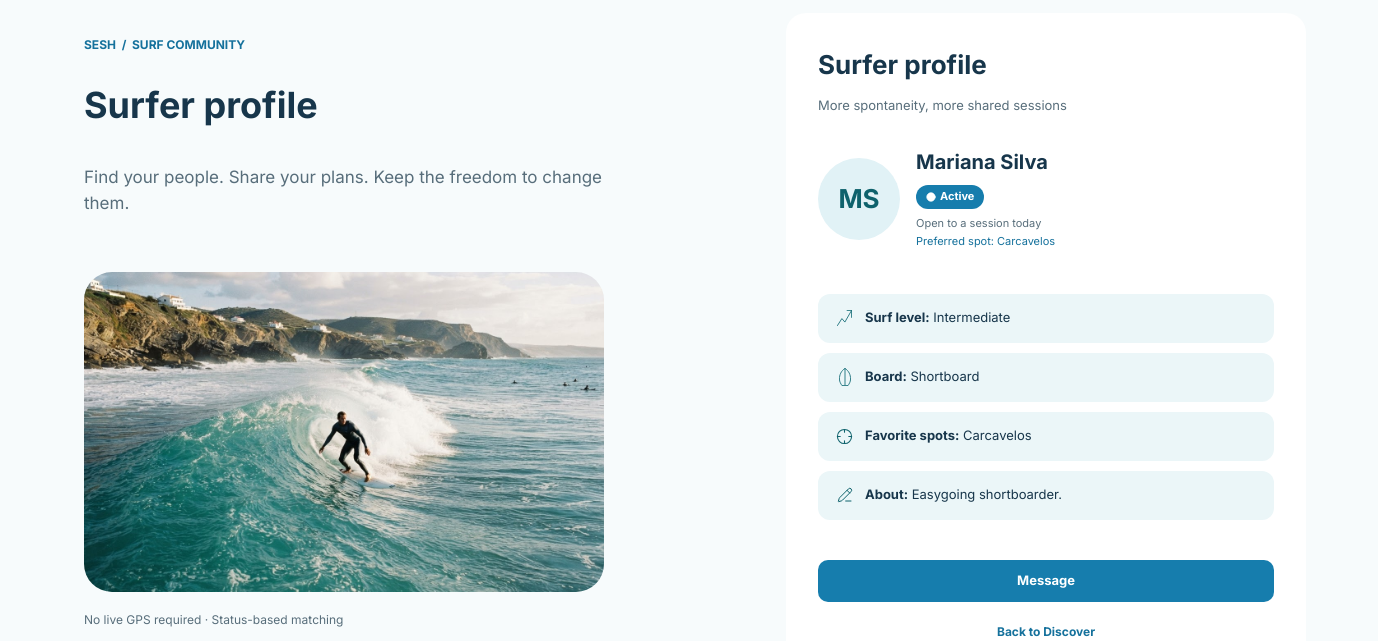
Test: public profile: Message button › unexpected server error: non-technical message
Expected: the heading "Mariana Silva" is shown, left=916, top=150, right=1048, bottom=174
Click the button "Message": {"x": 1046, "y": 580} left=818, top=560, right=1274, bottom=602
(page scrolled)
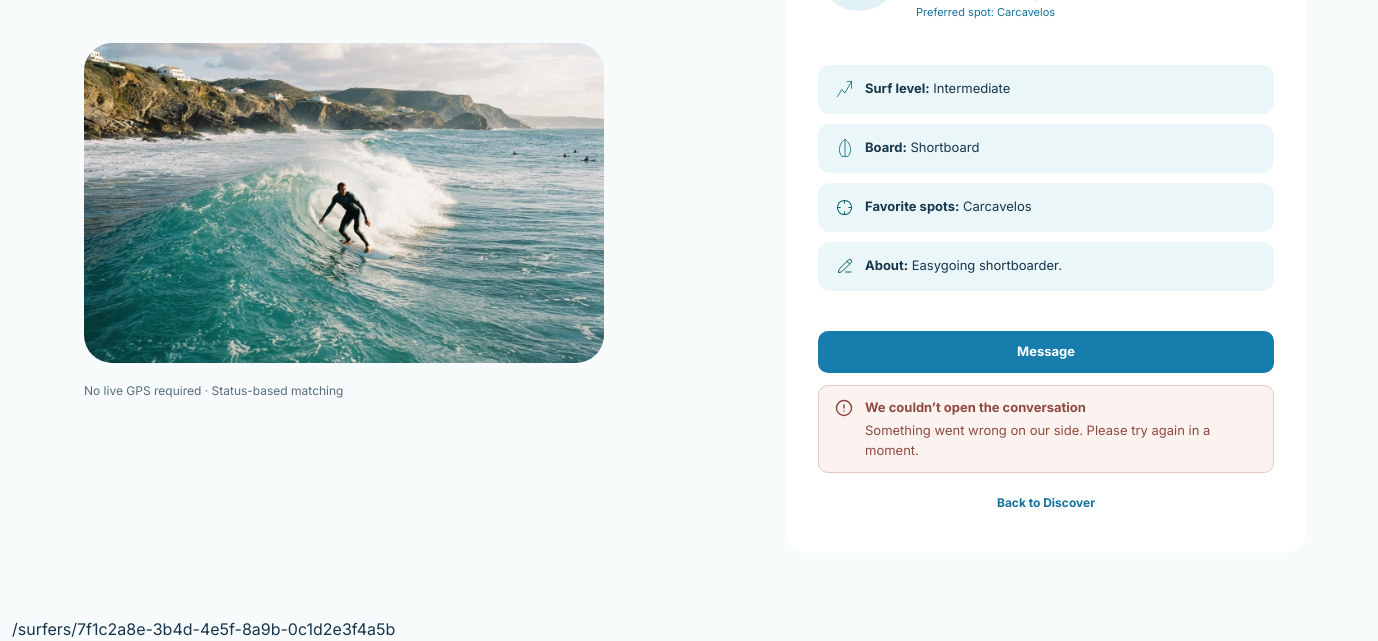
Now the message shows "Something went wrong on our side", box left=865, top=422, right=1210, bottom=458
